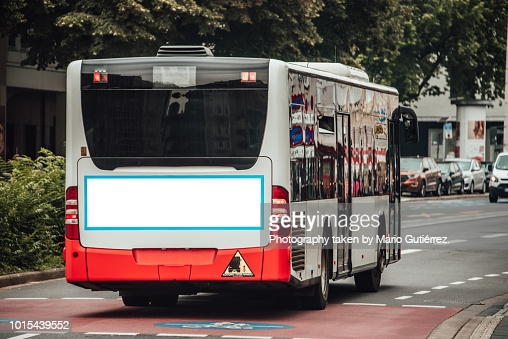bus: (56, 51, 401, 312)
car: (397, 153, 441, 197), (487, 150, 508, 206), (461, 150, 485, 198), (437, 155, 462, 196)
